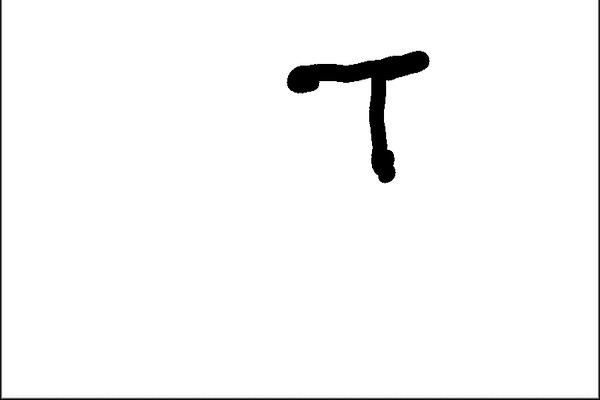T: (281, 36, 449, 184)
